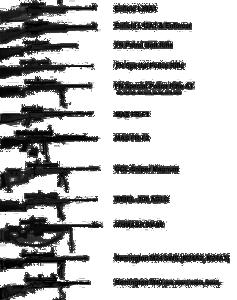rifle: (0, 219, 102, 244), (0, 79, 90, 105), (0, 160, 100, 183), (0, 18, 98, 38), (0, 192, 92, 212), (0, 277, 84, 297), (0, 109, 98, 126), (0, 248, 92, 266), (0, 42, 90, 60), (12, 136, 97, 154), (4, 2, 98, 18), (3, 64, 98, 76)
sniper: (0, 215, 106, 245), (0, 189, 96, 215), (0, 273, 90, 299), (5, 130, 91, 154), (3, 106, 95, 128), (0, 162, 84, 186), (9, 78, 87, 102), (4, 248, 97, 268), (1, 18, 99, 34), (0, 40, 87, 56), (3, 0, 97, 14), (0, 65, 100, 74)
